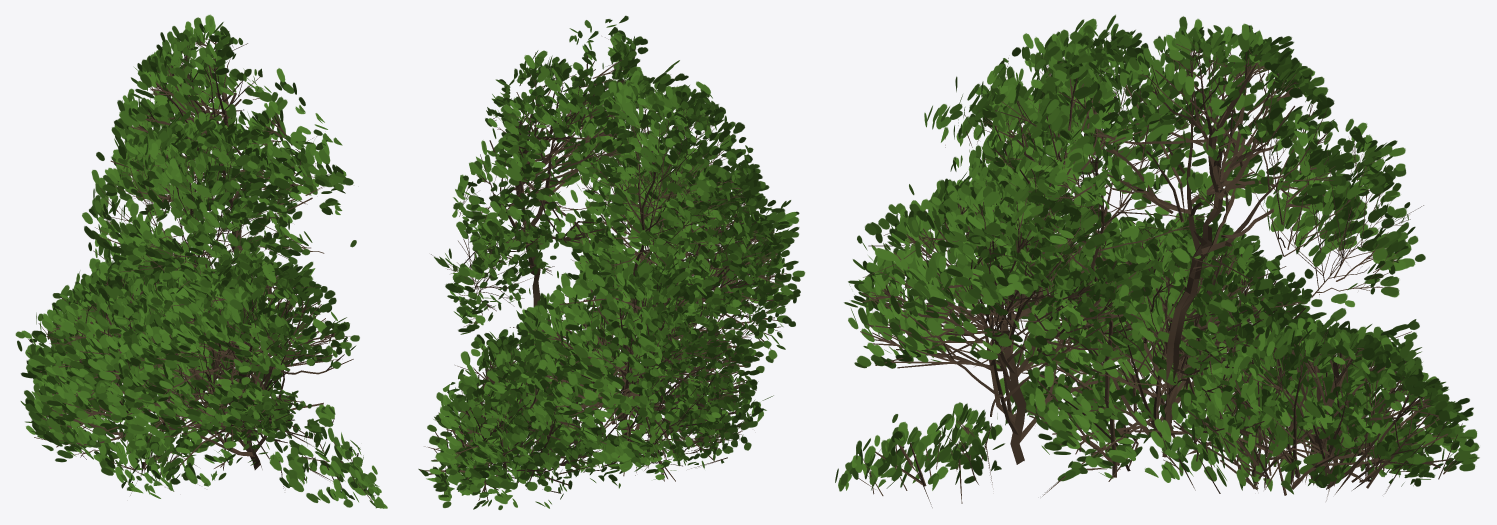
3 renders of one model, left to right at view 1: azimuth 30°, elevation 25°; view 2: azimuth 150°, elevation 25°; view 3: azimuth 270°, elevation 25°, orthographic. The views are drawn at different scales.
Parts seen in each view (by area): view 1: oak 01.001_trunk_Mat.001_0.402; view 2: oak 01.001_trunk_Mat.001_0.402; view 3: oak 01.001_trunk_Mat.001_0.402.
Part boxes in pixels (x1,y1,x2,y2): oak 01.001_trunk_Mat.001_0.402: (15, 14, 387, 508); oak 01.001_trunk_Mat.001_0.402: (418, 15, 805, 509); oak 01.001_trunk_Mat.001_0.402: (835, 14, 1479, 507).
Bounding box in the file's own units: 2.42 × 3.85 × 4.64.
Materials: 2 (1 with a texture image).
